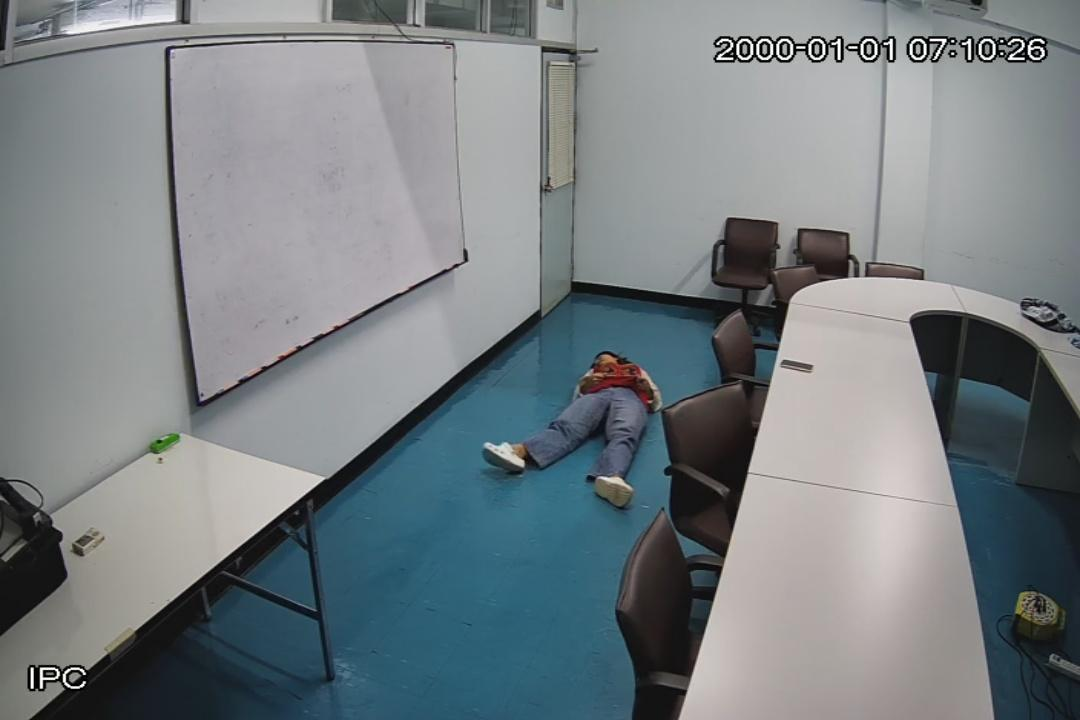fall: (482, 336, 662, 510)
